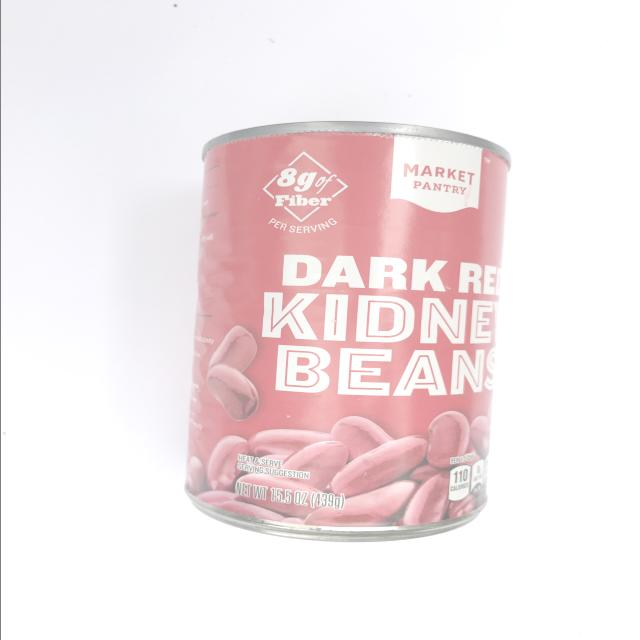Metal: (183, 121, 513, 543)
